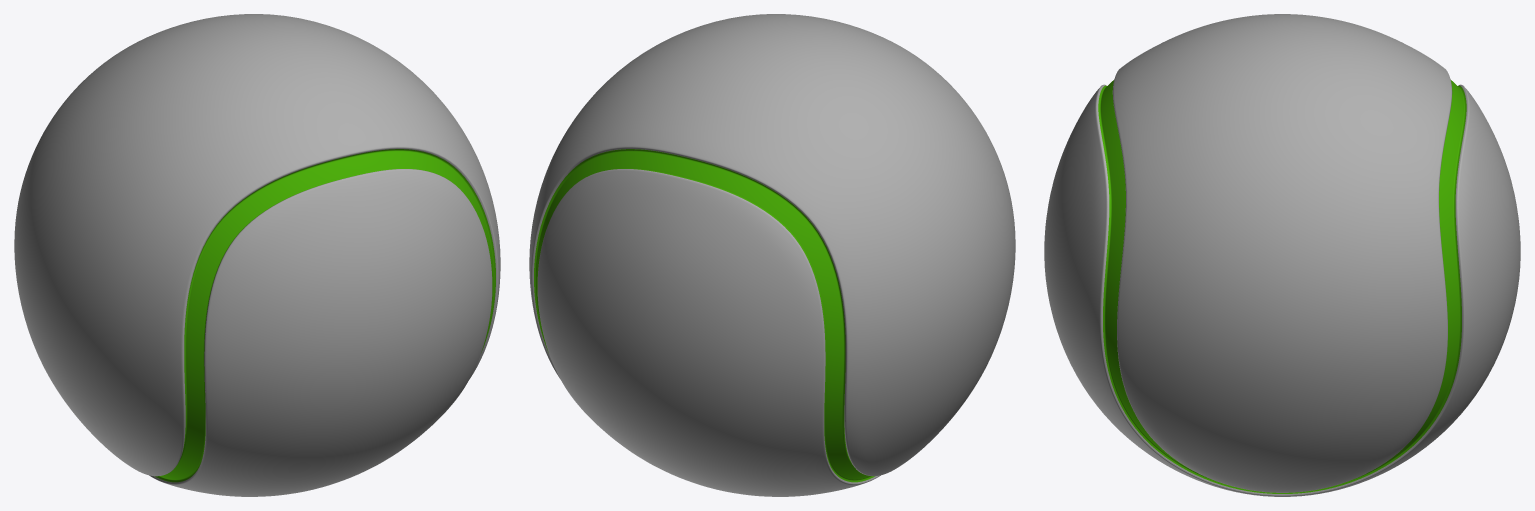
Rendered from FBX-Tennis_Ball.fbx.
3 renders of one model, left to right at view 1: azimuth 30°, elevation 25°; view 2: azimuth 150°, elevation 25°; view 3: azimuth 270°, elevation 25°, orthographic.
Parts seen in each view (by area): view 1: pCube1; view 2: pCube1; view 3: pCube1.
Boxes of the visible parts, box(x1,y1,x2,y2) form: pCube1: box(14, 14, 500, 496); pCube1: box(529, 14, 1015, 496); pCube1: box(1044, 14, 1520, 496).
Size of the model in its own units: 2.09 by 2.11 by 2.1.
